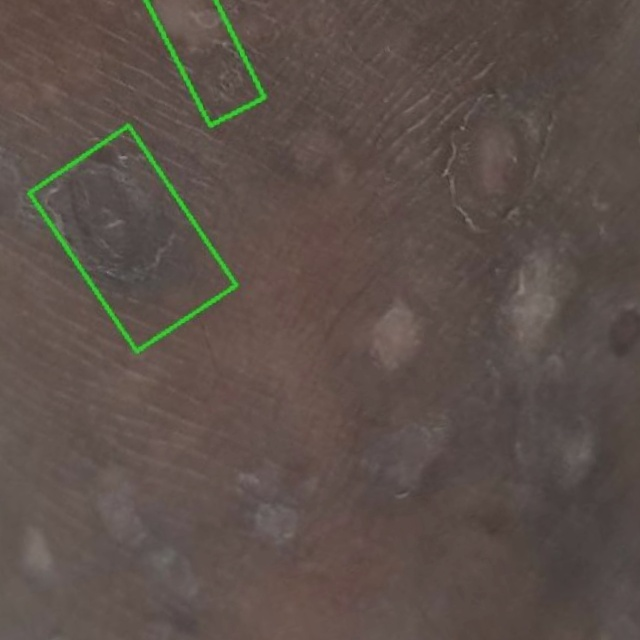Contact Dermatitis: (30, 126, 236, 352), (146, 0, 265, 125)
